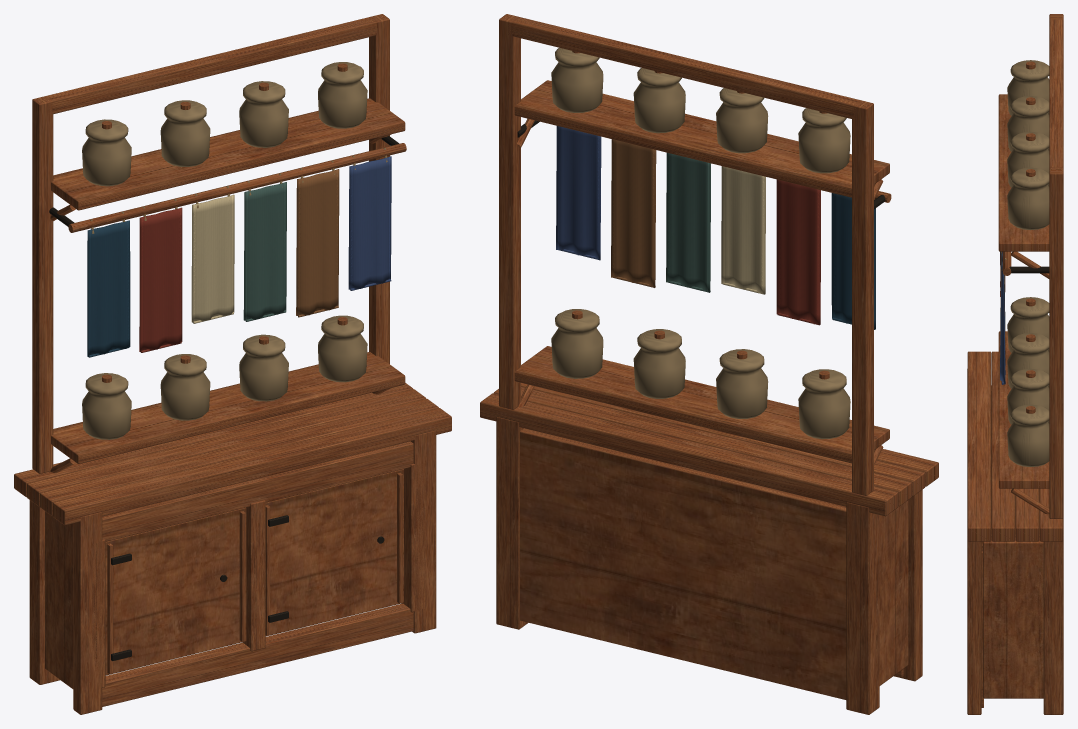
File: b18-dye-counter.glb
3 views of the same model, side by side, from view 1: azimuth 30°, elevation 25°; view 2: azimuth 150°, elevation 25°; view 3: azimuth 270°, elevation 25° (orthographic). The views are drawn at different scales.
Visible parts, largest first — view 1: b18-dye-counter; view 2: b18-dye-counter; view 3: b18-dye-counter.
Part boxes in pixels (x1,y1,x2,y2): b18-dye-counter: [14, 14, 451, 714]; b18-dye-counter: [480, 14, 938, 714]; b18-dye-counter: [967, 14, 1063, 714].
Bounding box in the file's own units: 1.48 × 2.11 × 0.34.
1 material, 1 textured.
